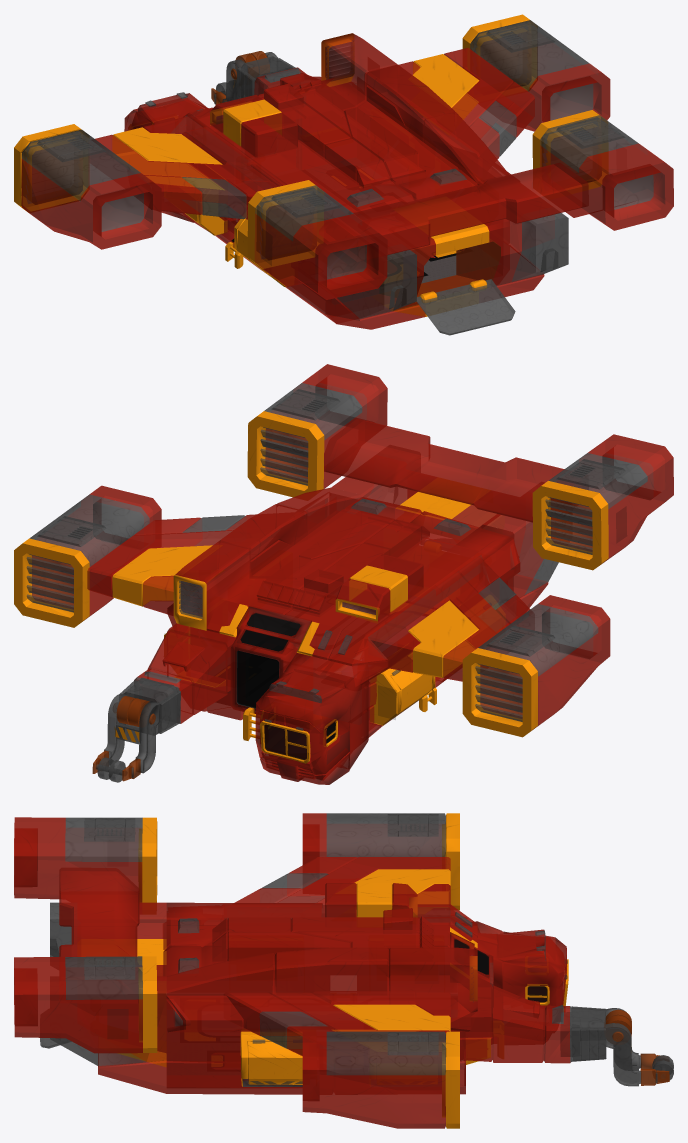
The model's file is SPACE.fbx.
The picture shows the model from 3 angles, top to bottom: view 1: azimuth 30°, elevation 25°; view 2: azimuth 150°, elevation 25°; view 3: azimuth 270°, elevation 25°; orthographic projection.
Visible parts, largest first — view 1: Maintenance; view 2: Maintenance; view 3: Maintenance.
Boxes of the visible parts, <box> form: Maintenance: <box>14,14,673,335</box>; Maintenance: <box>14,364,673,784</box>; Maintenance: <box>14,813,673,1128</box>.
Bounding box in the file's own units: 133 × 147 × 40.42.
